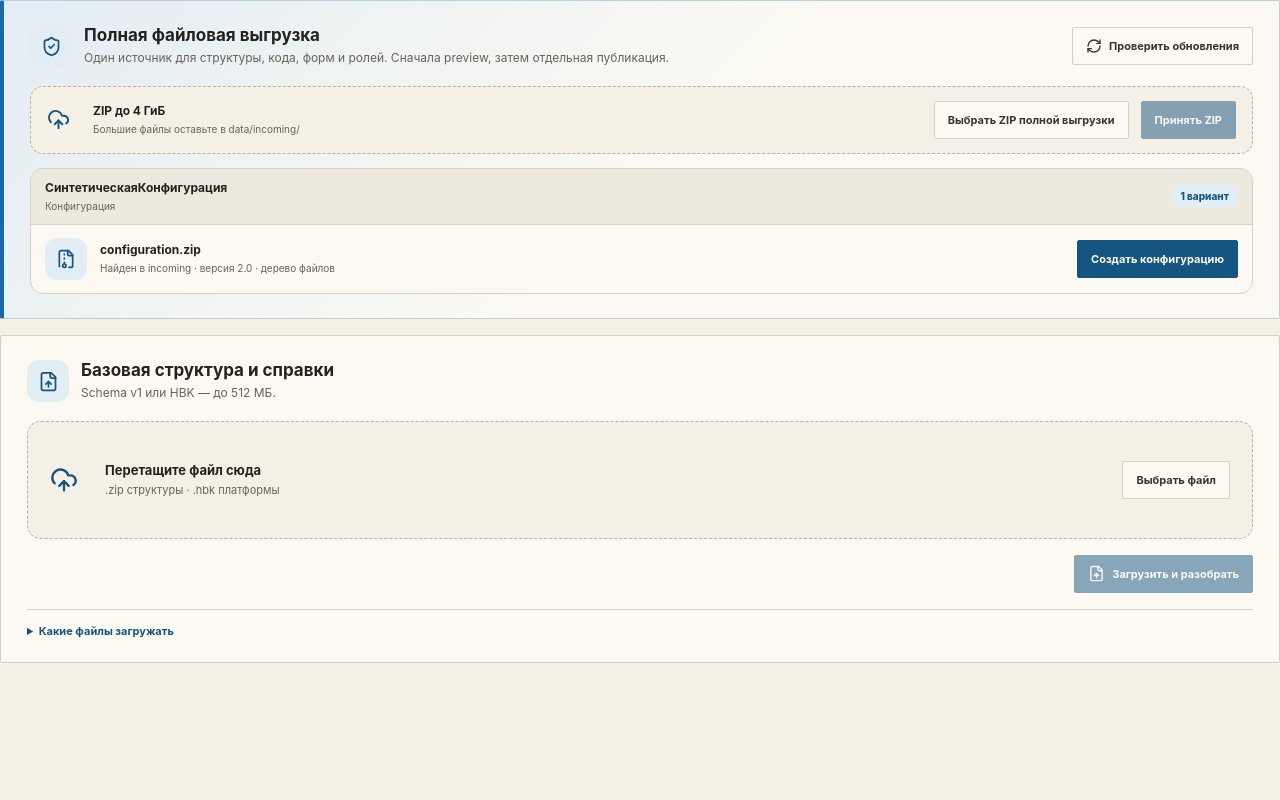
Test: публикует только после confirm и учитывает no_op=true при обновлении кэша
The image size is (1280, 800).
expect the text "СинтетическаяКонфигурация" is shown: met, box [45, 180, 227, 195]
What coordinates should you click on to do the following:
click the button "Создать конфигурацию"
I would click on:
 (1158, 259)
Its box is [1077, 240, 1238, 278].
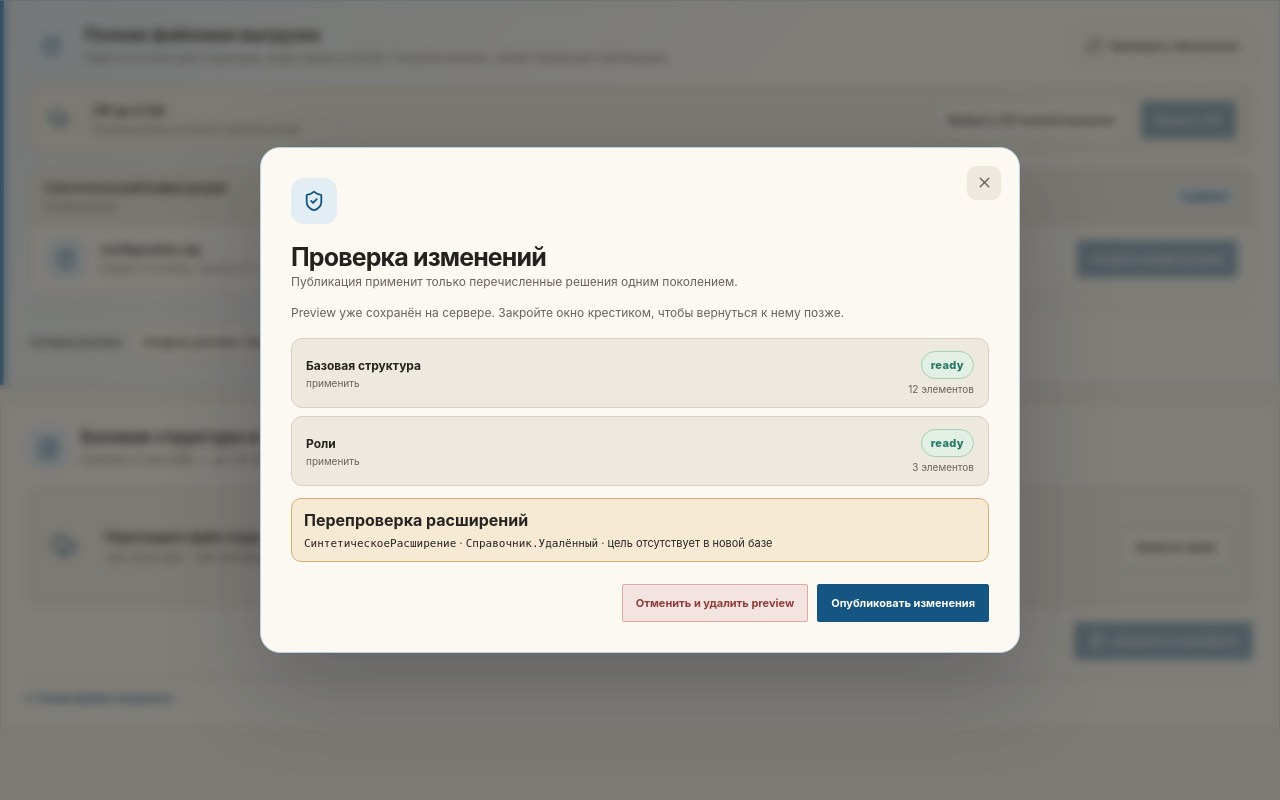
expect the text "Базовая структура" is shown: met, box [306, 358, 421, 373]
expect the text "Роли" is shown: met, box [306, 436, 336, 451]
expect the text "12 элементов" is shown: met, box [908, 383, 974, 395]
What coordinates should you click on to do the following:
click the button named "Закрыть"
I would click on:
 (984, 183)
Its box is [967, 166, 1001, 200].
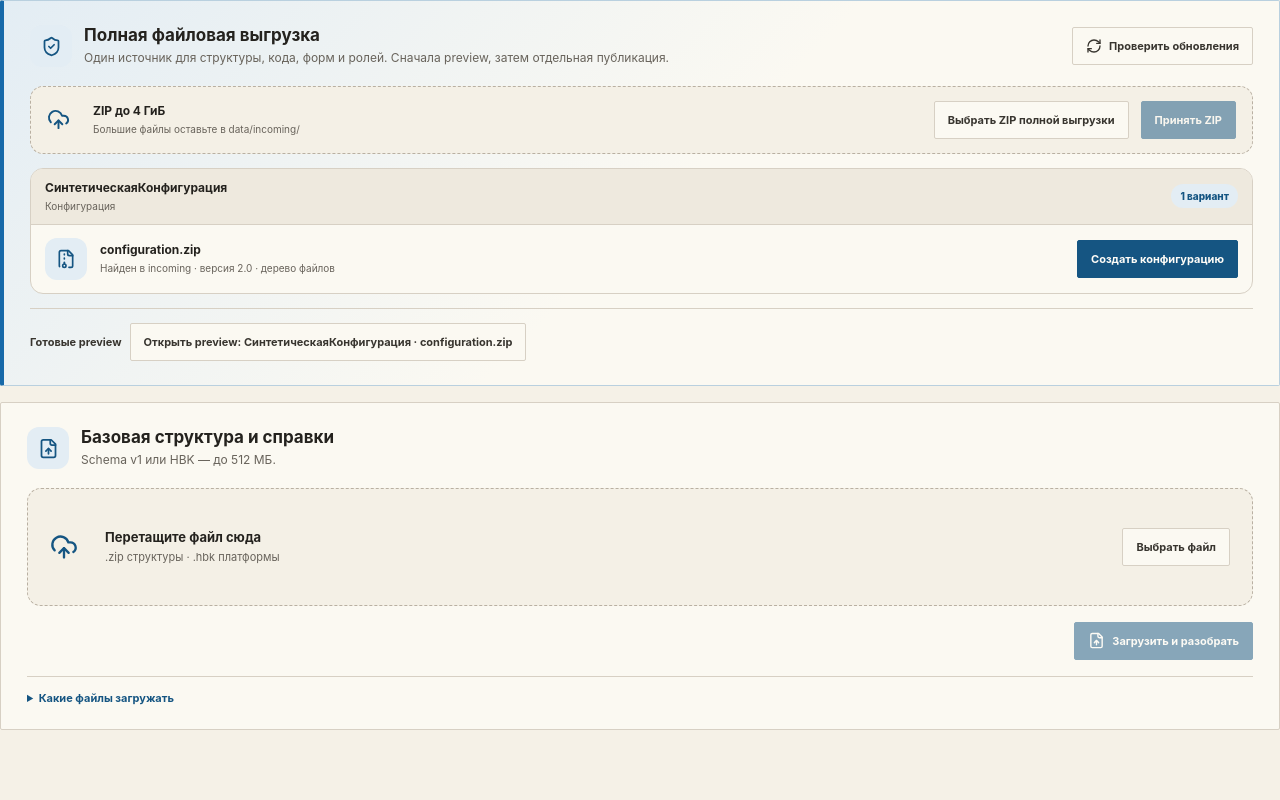
What coordinates should you click on to do the following:
click the button "Открыть preview: СинтетическаяКонфигурация · configuration.zip"
I would click on:
 (328, 342)
Its box is [130, 323, 526, 361].
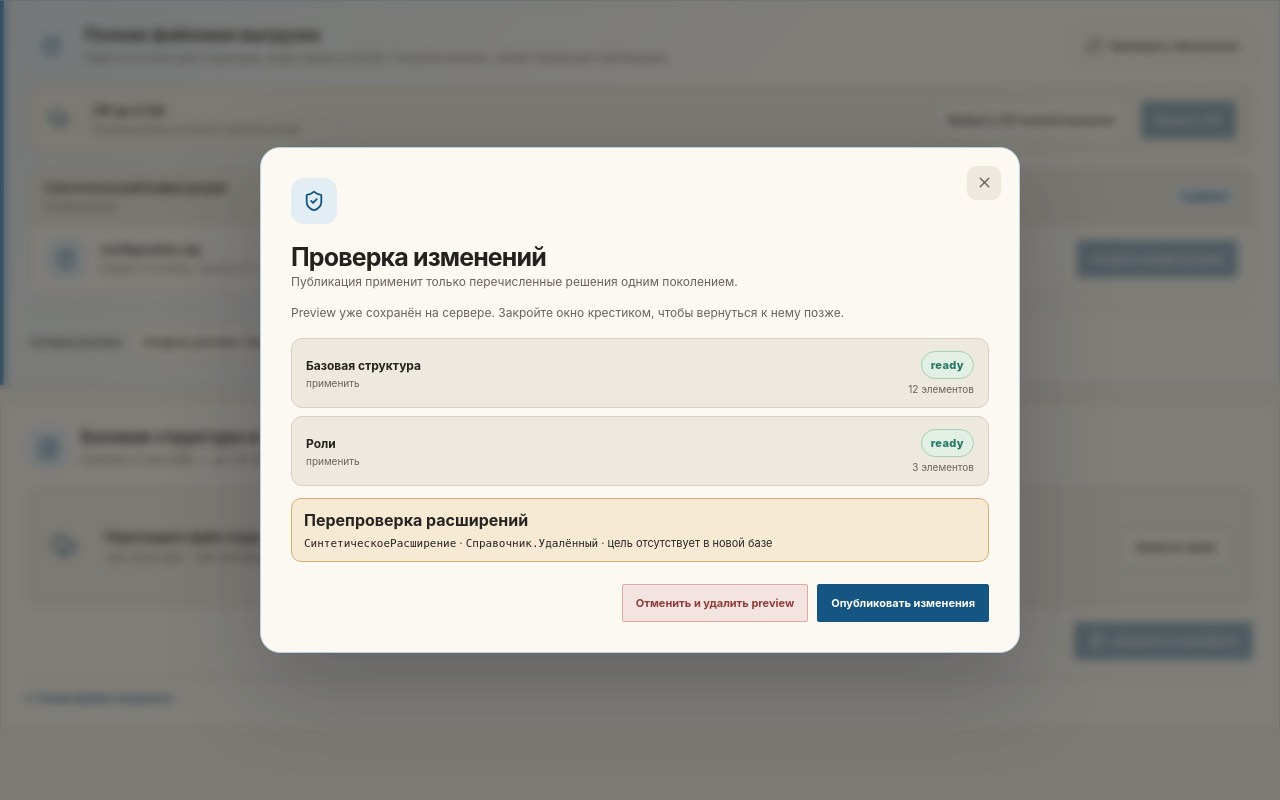
What coordinates should you click on to do the following:
click the button "Опубликовать изменения"
I would click on:
 (903, 603)
Its box is [817, 584, 989, 622].
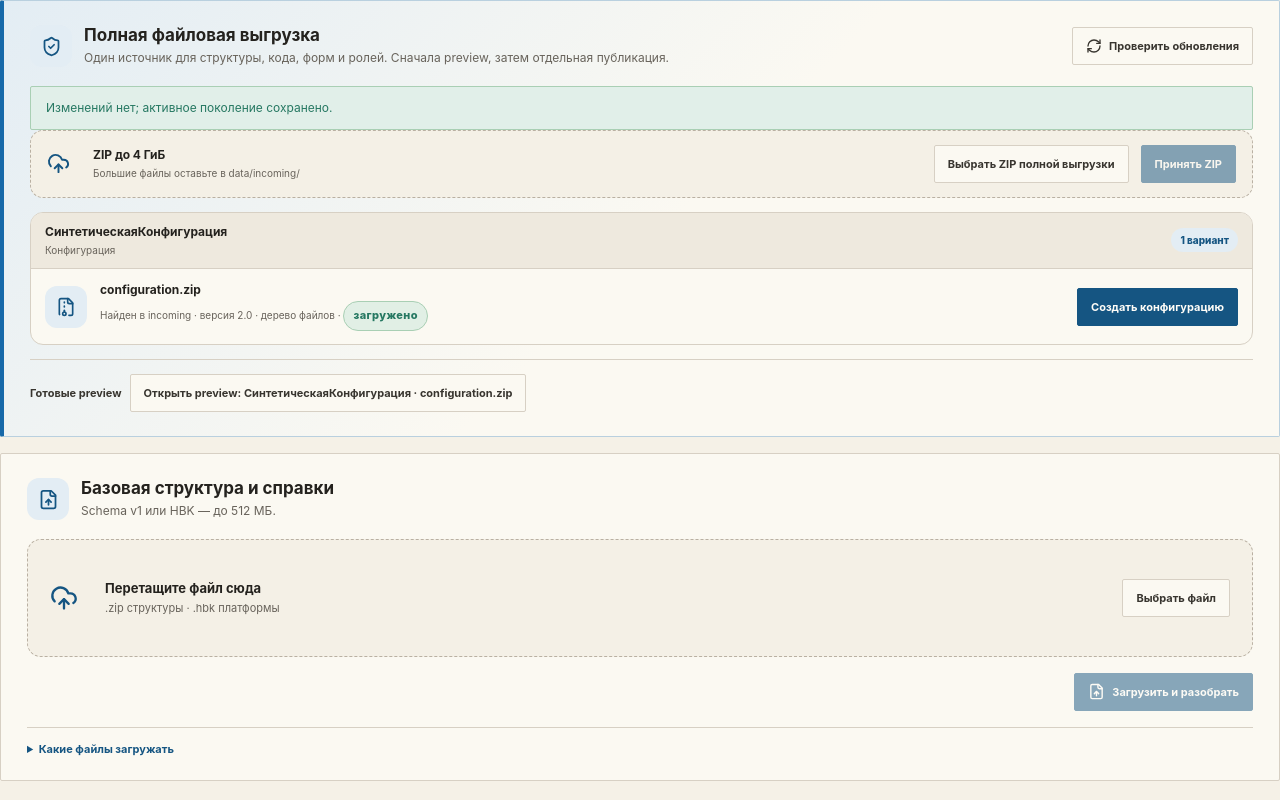
expect the text "Изменений нет; активное поколение сохранено." is shown: met, box [30, 86, 1253, 130]
expect the text "загружено" is shown: met, box [344, 301, 428, 331]
